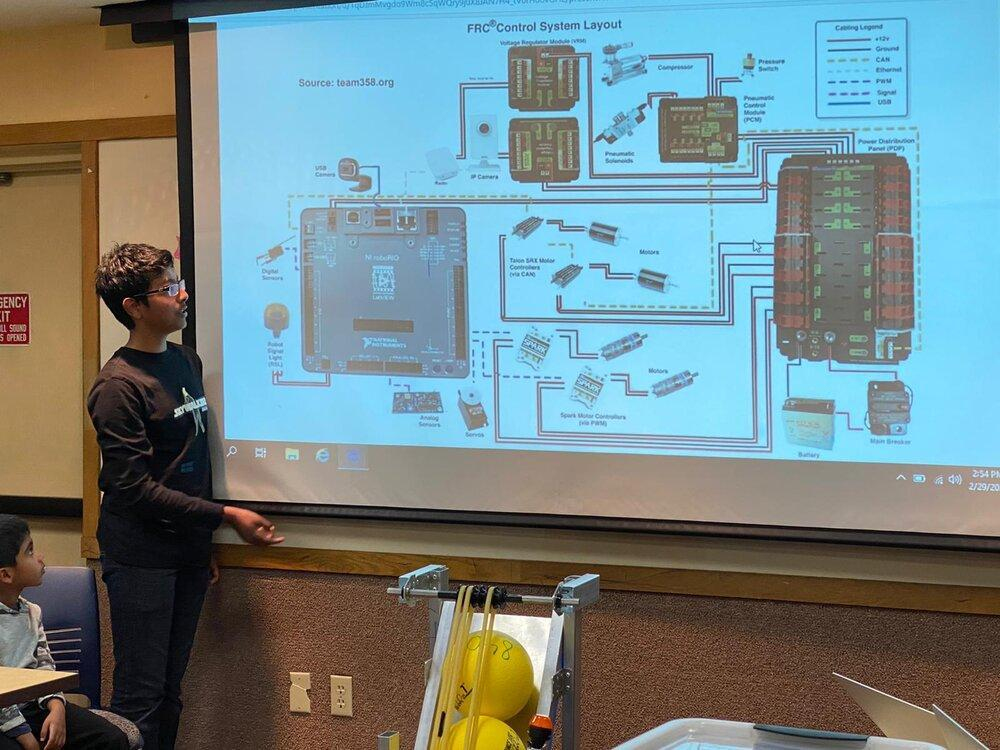robot: (366, 549, 611, 750)
